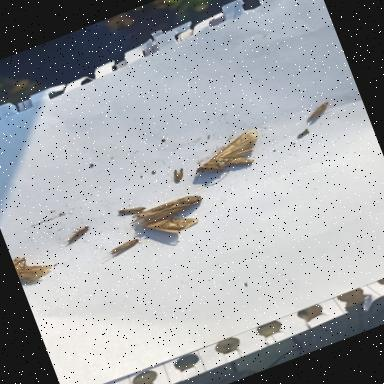abw: (184, 120, 275, 186), (126, 188, 206, 232), (149, 205, 205, 242)
pbw: (97, 231, 147, 266), (294, 94, 340, 128), (107, 196, 152, 225), (58, 219, 98, 249), (162, 163, 190, 189)
